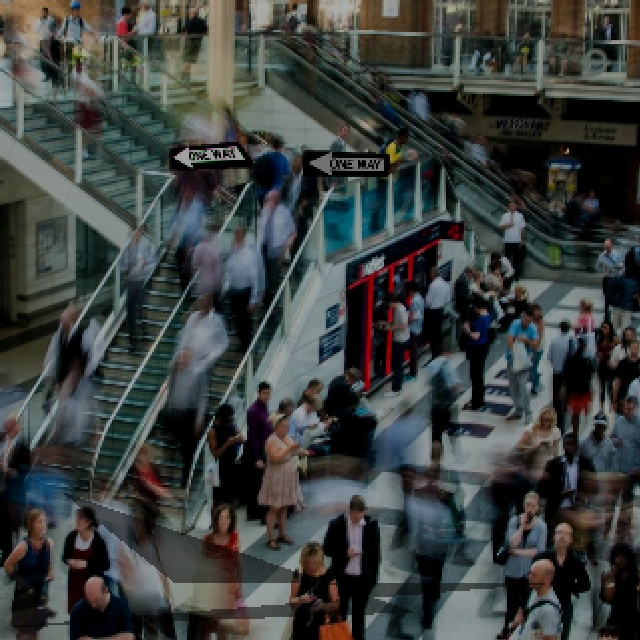ONE_WAY_ left: (167, 139, 256, 169), (300, 148, 389, 176)
